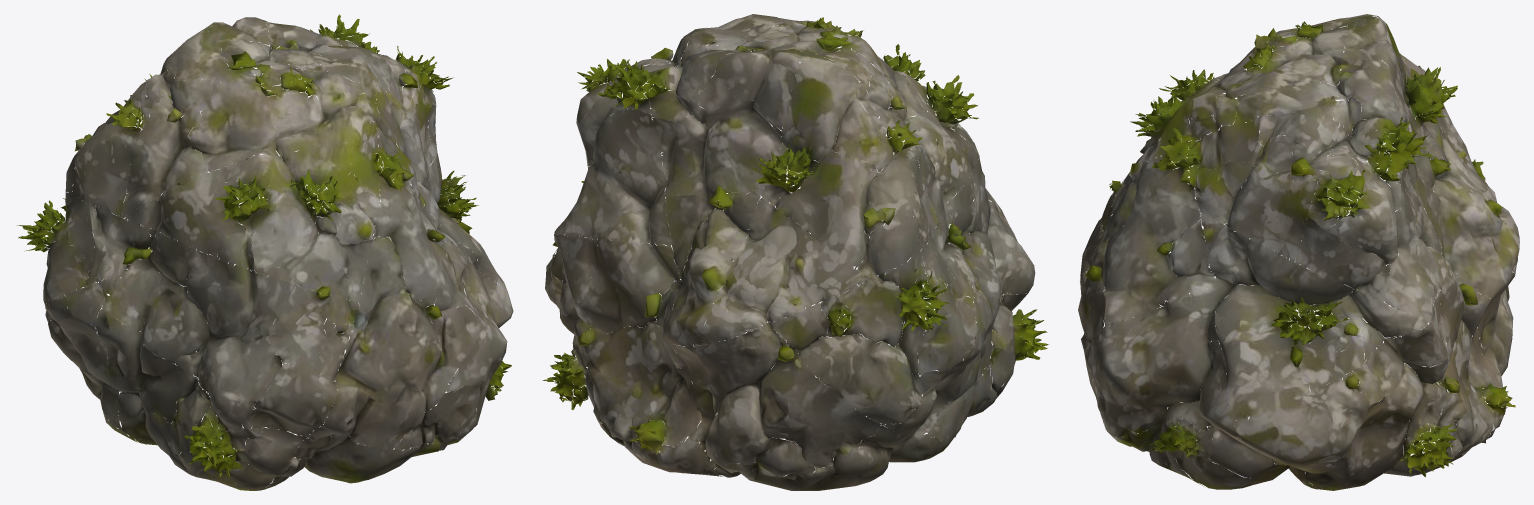
Rendered from env_boulder_moss_LOD0.glb.
The picture shows the model from 3 angles, left to right: view 1: azimuth 30°, elevation 25°; view 2: azimuth 150°, elevation 25°; view 3: azimuth 270°, elevation 25°; orthographic projection. The views are drawn at different scales.
Parts seen in each view (by area): view 1: tripo_node_5f5a647b-546c-43b3-a3c5-a81652d3ce2e; view 2: tripo_node_5f5a647b-546c-43b3-a3c5-a81652d3ce2e; view 3: tripo_node_5f5a647b-546c-43b3-a3c5-a81652d3ce2e.
Boxes of the visible parts, <box> form: tripo_node_5f5a647b-546c-43b3-a3c5-a81652d3ce2e: <box>17,14,513,490</box>; tripo_node_5f5a647b-546c-43b3-a3c5-a81652d3ce2e: <box>542,14,1048,490</box>; tripo_node_5f5a647b-546c-43b3-a3c5-a81652d3ce2e: <box>1078,14,1519,490</box>.
Size of the model in its own units: 1 by 0.8952 by 0.8846.
Materials: 1 (1 with a texture image).
